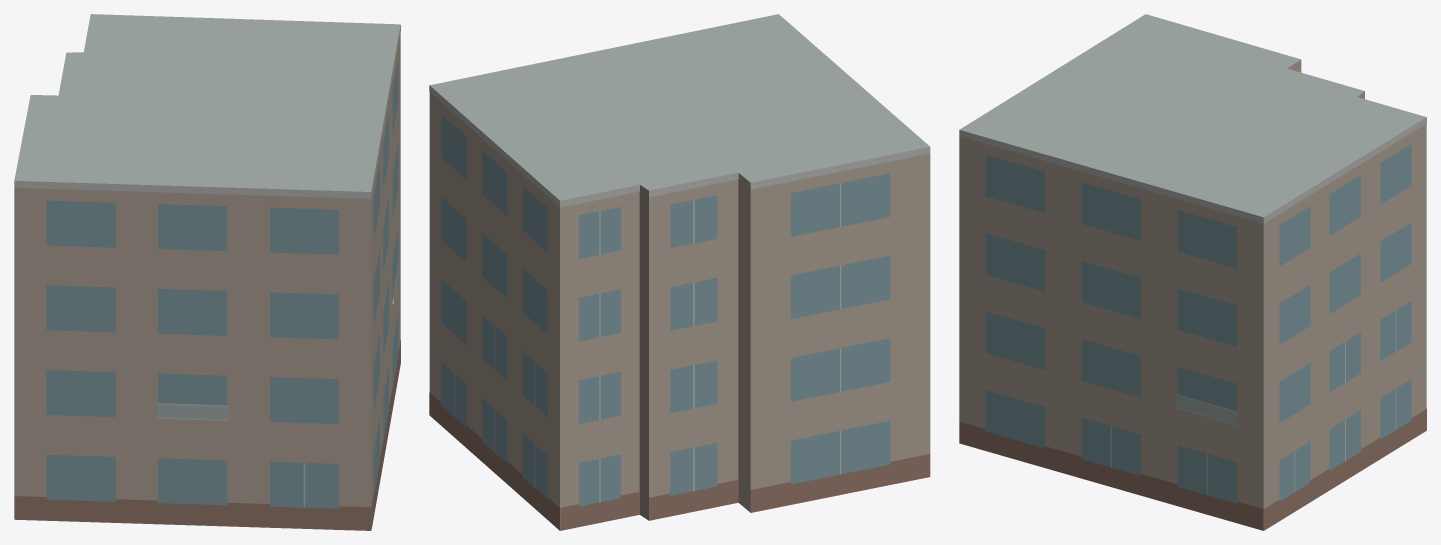
The model's file is survey-upis-32768418.glb.
The picture shows the model from 3 angles, left to right: view 1: azimuth 30°, elevation 25°; view 2: azimuth 150°, elevation 25°; view 3: azimuth 270°, elevation 25°; orthographic projection. The views are drawn at different scales.
Visible parts, largest first — view 1: survey-upis-32768418.tmp; view 2: survey-upis-32768418.tmp; view 3: survey-upis-32768418.tmp.
Boxes of the visible parts, x1,y1,x2,y2 form: survey-upis-32768418.tmp: (14,14,400,530); survey-upis-32768418.tmp: (429,14,930,530); survey-upis-32768418.tmp: (959,14,1426,530).
Bounding box in the file's own units: 16.56 × 11.9 × 16.09.
